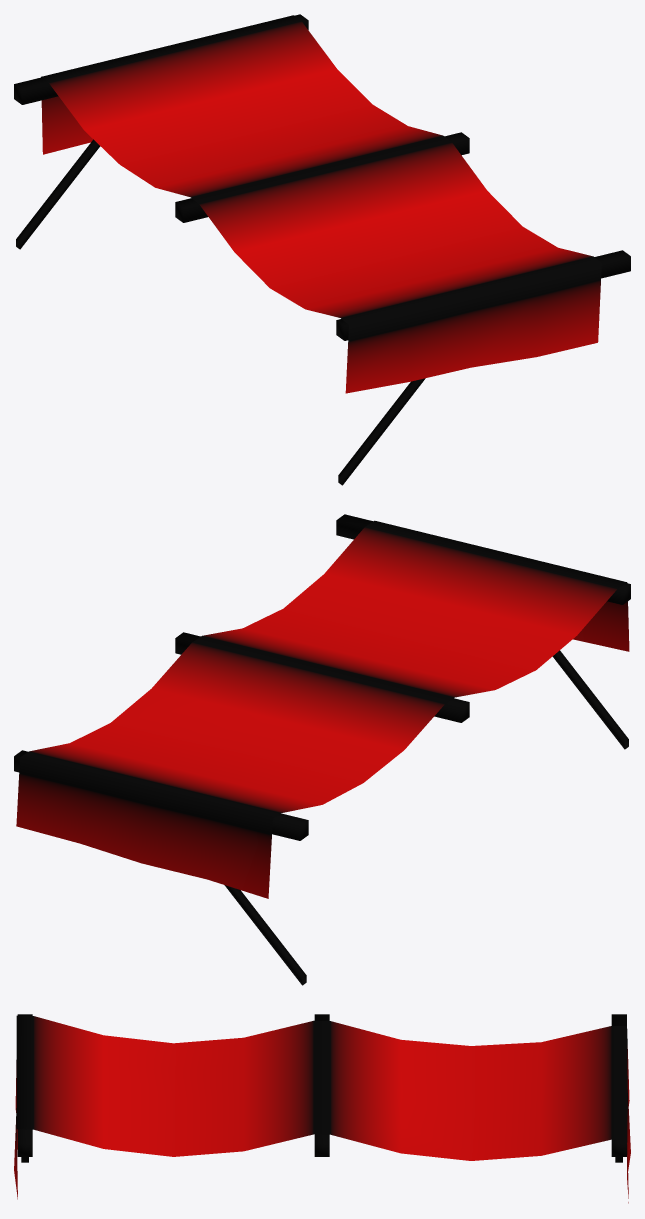
Rendered from tent_1.fbx.
3 views of the same model, one above another, from view 1: azimuth 30°, elevation 25°; view 2: azimuth 150°, elevation 25°; view 3: azimuth 270°, elevation 25° (orthographic). The views are drawn at different scales.
Visible parts, largest first — view 1: tent_1; view 2: tent_1; view 3: tent_1.
Boxes of the visible parts, x1,y1,x2,y2 form: tent_1: (14,14,630,485); tent_1: (14,514,630,985); tent_1: (14,1014,630,1203).
Bounding box in the file's own units: 2 × 1.08 × 4.05.
